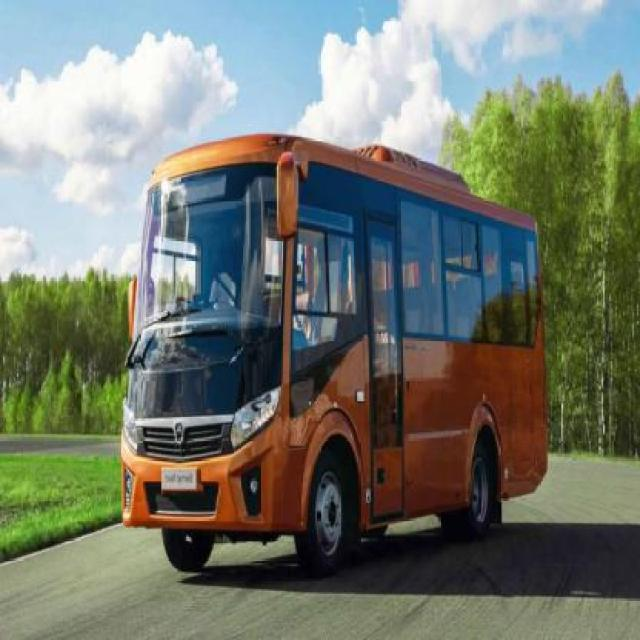bus: (119, 129, 546, 572)
